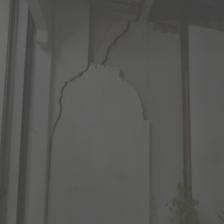High: (43, 1, 164, 224)
